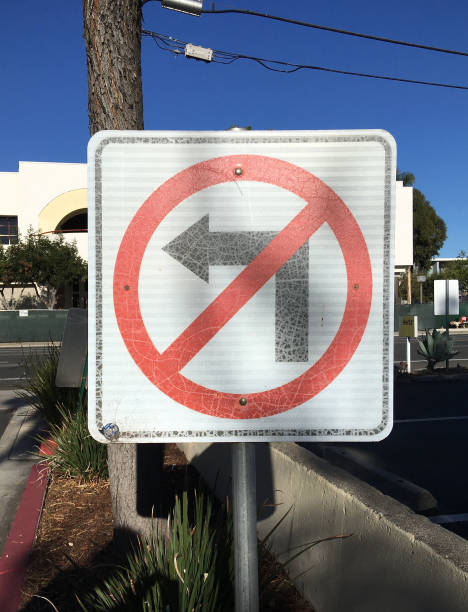sola_girilmez: (108, 153, 371, 422)
